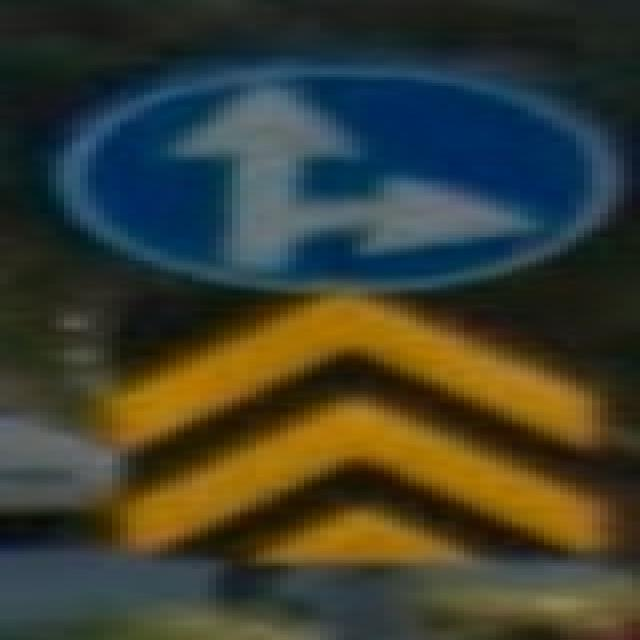Straight or Right: (81, 71, 601, 296)
